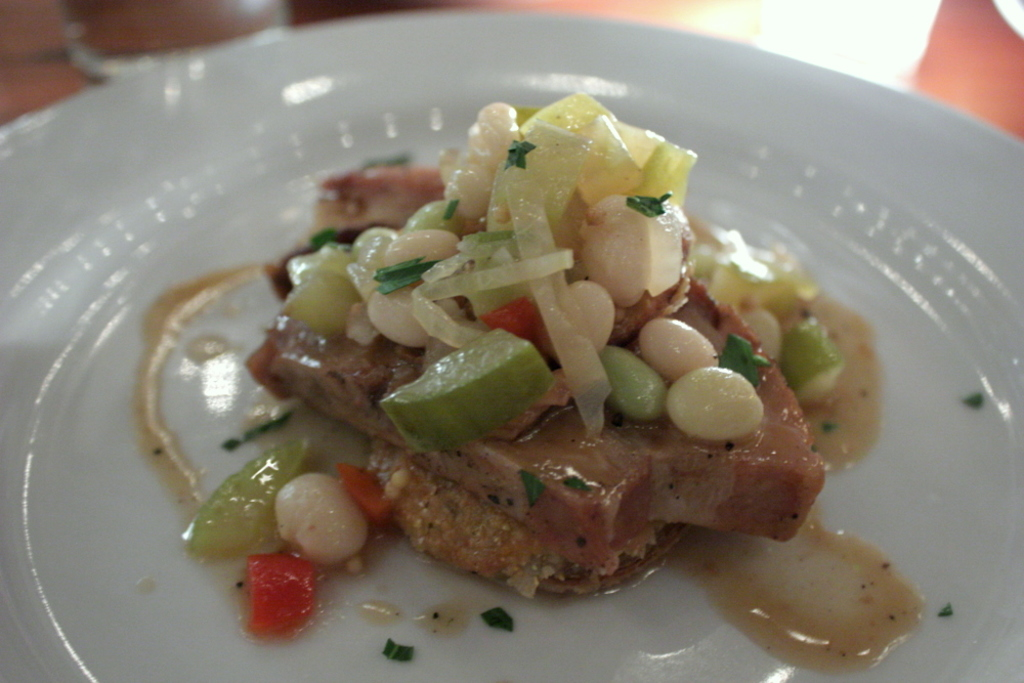salad: (182, 72, 853, 640)
